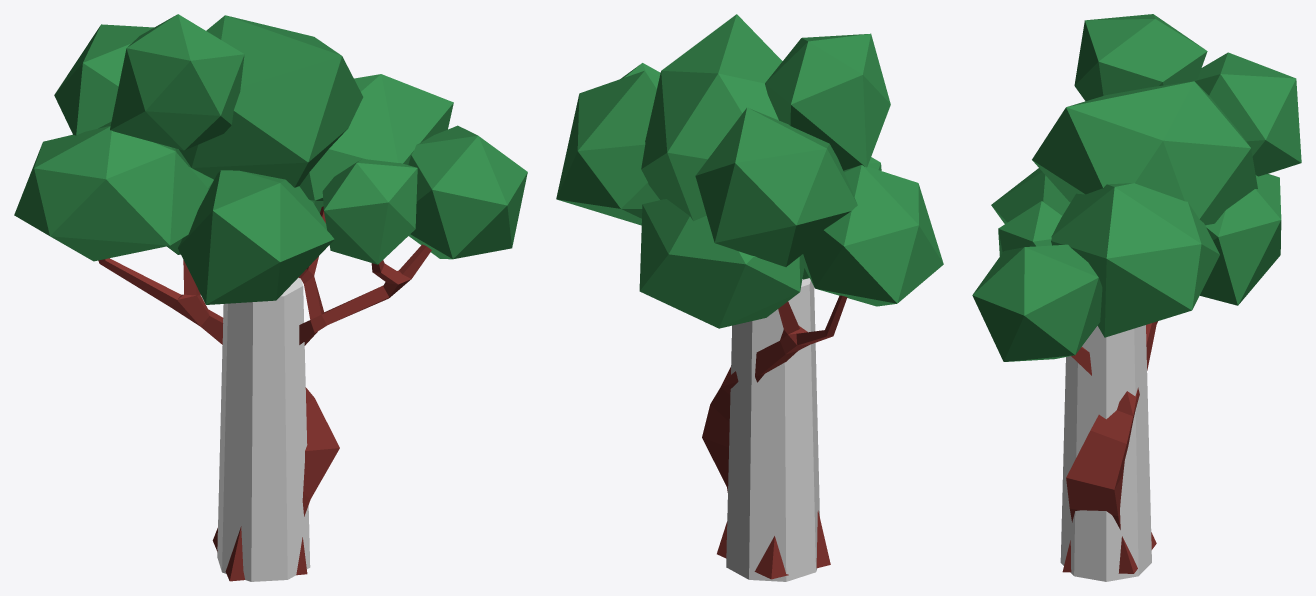
The model's file is floresta_tree_oak_large_green.glb.
The picture shows the model from 3 angles, left to right: view 1: azimuth 30°, elevation 25°; view 2: azimuth 150°, elevation 25°; view 3: azimuth 270°, elevation 25°; orthographic projection. The views are drawn at different scales.
Parts seen in each view (by area): view 1: Oak big green f, Colisao; view 2: Oak big green f, Colisao; view 3: Oak big green f, Colisao.
Boxes of the visible parts, left/top/right/bottom form: Oak big green f: left=14, top=14, right=527, bottom=581; Colisao: left=217, top=277, right=310, bottom=581; Oak big green f: left=556, top=14, right=943, bottom=579; Colisao: left=726, top=278, right=819, bottom=581; Oak big green f: left=972, top=14, right=1301, bottom=573; Colisao: left=1060, top=325, right=1151, bottom=581.
Size of the model in its own units: 12.06 by 15.24 by 8.81.
